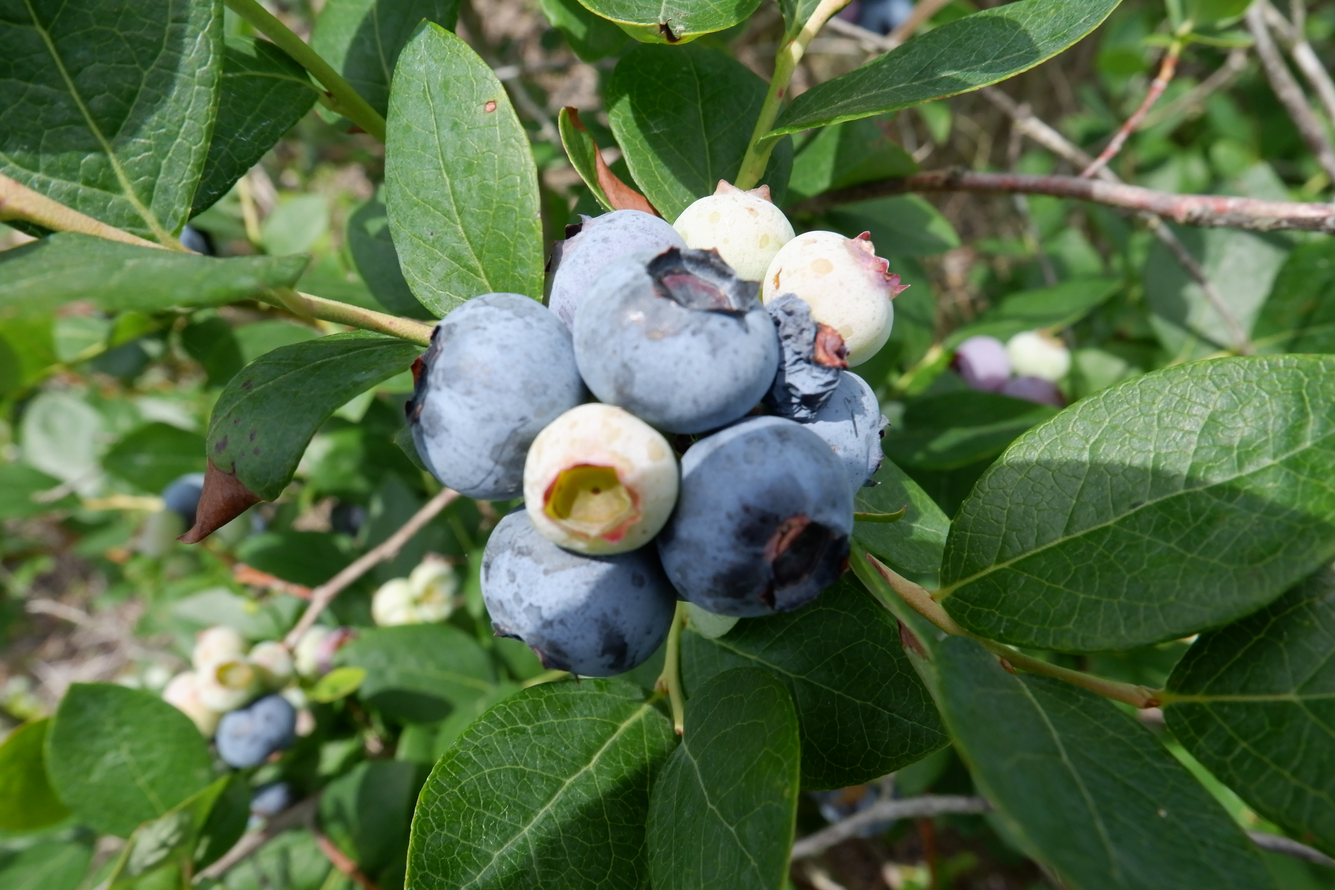Immature: (526, 408, 678, 554), (765, 233, 900, 363), (682, 182, 790, 279)
Mature: (659, 419, 852, 614), (407, 294, 580, 501), (572, 263, 776, 432), (482, 515, 672, 675), (549, 210, 682, 330), (775, 374, 883, 491), (763, 294, 849, 407)
